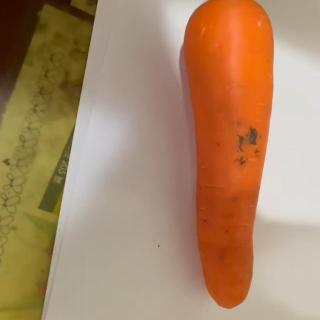carrot: (178, 0, 276, 310)
